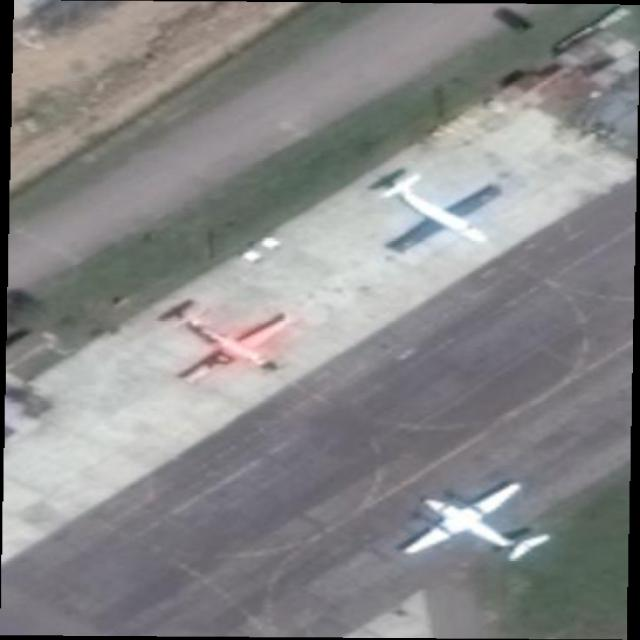plane: (372, 460, 578, 588), (336, 157, 532, 274), (137, 286, 330, 400)
